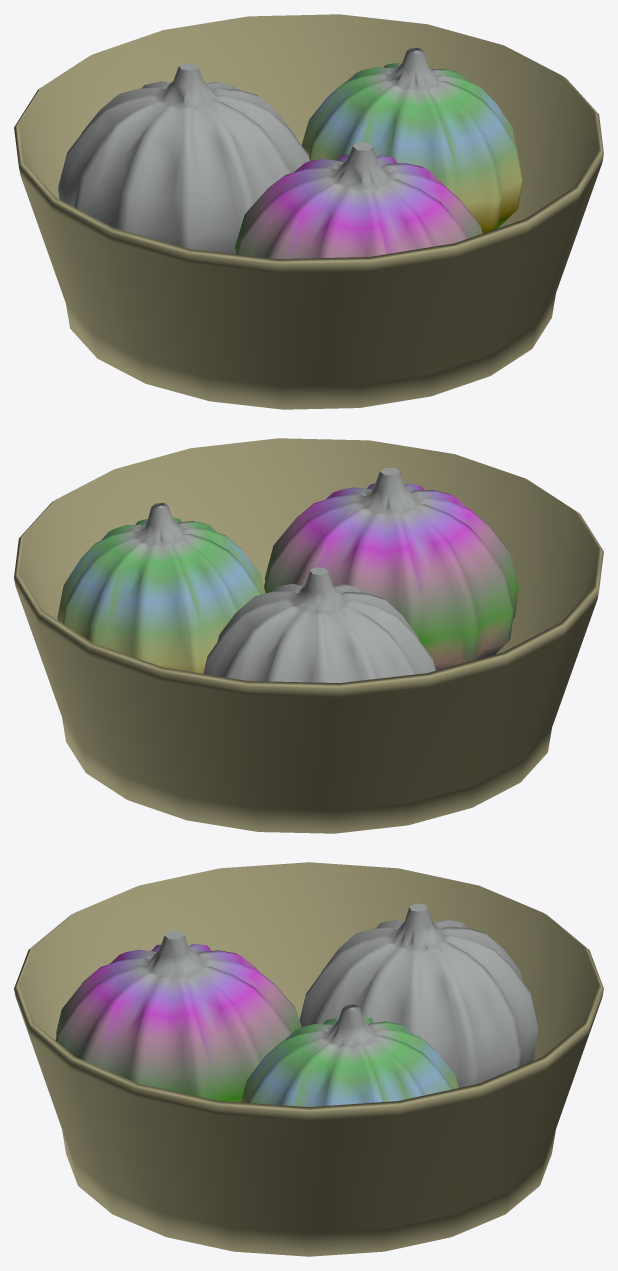
3 views of the same model, one above another, from view 1: azimuth 30°, elevation 25°; view 2: azimuth 150°, elevation 25°; view 3: azimuth 270°, elevation 25° (orthographic).
Visible parts, largest first — view 1: G:\FFXIV-MapTools\exports\y6f3\bg\ex5\02_ykt_y6\fld\y6f3\bgp (×4); view 2: G:\FFXIV-MapTools\exports\y6f3\bg\ex5\02_ykt_y6\fld\y6f3\bgp (×4); view 3: G:\FFXIV-MapTools\exports\y6f3\bg\ex5\02_ykt_y6\fld\y6f3\bgp (×4).
Boxes of the visible parts, <box> form: G:\FFXIV-MapTools\exports\y6f3\bg\ex5\02_ykt_y6\fld\y6f3\bgp (×4): <box>14,14,603,409</box>; G:\FFXIV-MapTools\exports\y6f3\bg\ex5\02_ykt_y6\fld\y6f3\bgp (×4): <box>14,438,603,833</box>; G:\FFXIV-MapTools\exports\y6f3\bg\ex5\02_ykt_y6\fld\y6f3\bgp (×4): <box>14,862,603,1256</box>.
Bounding box in the file's own units: 1.14 × 0.4579 × 1.14.
